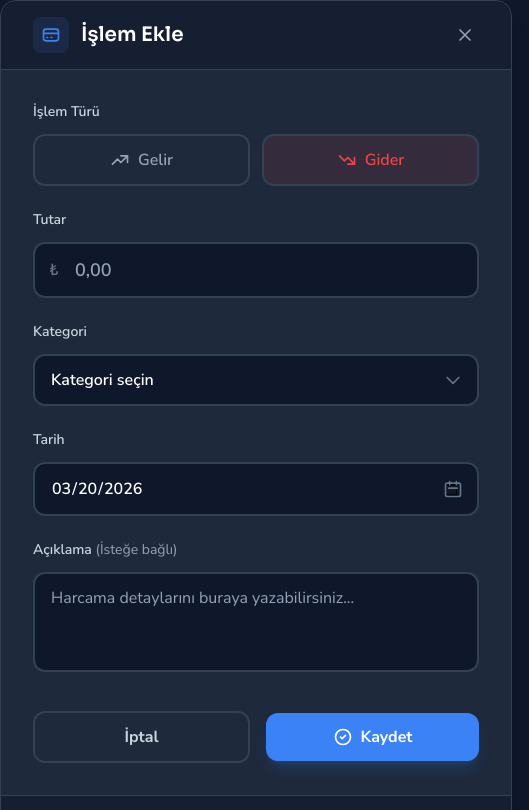
Test: TransactionForm › validates required category field
// Enter amount but no category
Type "100" into the number field labelled "Tutar" at [256, 270], box [33,242,479,298]
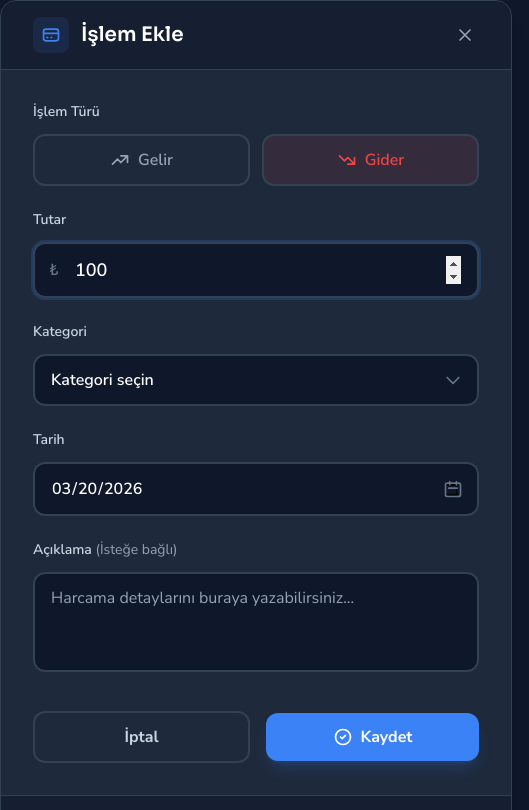
Click the button "Kaydet" at [372, 737], box [266,713,479,761]
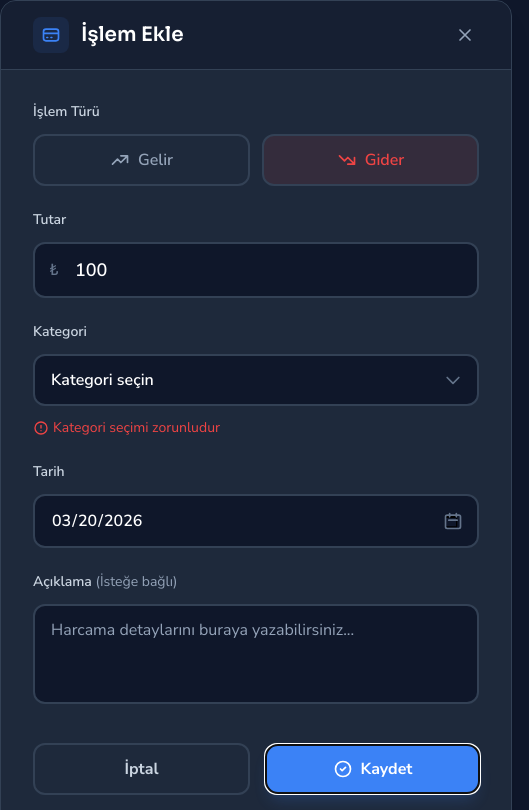
Expected: the text "Kategori seçimi zorunludur" is shown, [33,418,220,437]
